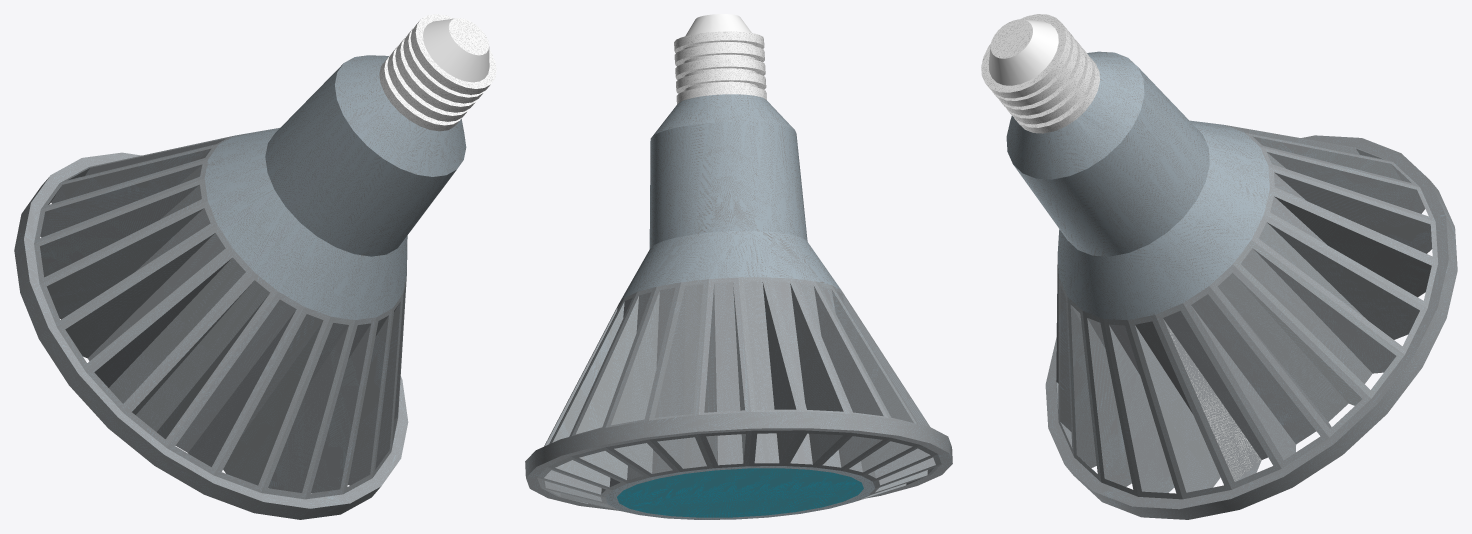
The model's file is Foco.fbx.
The picture shows the model from 3 angles, left to right: view 1: azimuth 30°, elevation 25°; view 2: azimuth 150°, elevation 25°; view 3: azimuth 270°, elevation 25°; orthographic projection. The views are drawn at different scales.
Parts seen in each view (by area): view 1: PAR38_1; view 2: PAR38_1; view 3: PAR38_1.
Boxes of the visible parts, box(x1,y1,x2,y2) form: PAR38_1: box(14, 14, 496, 519); PAR38_1: box(525, 14, 952, 519); PAR38_1: box(981, 14, 1457, 519).
Bounding box in the file's own units: 0.1152 × 0.1443 × 0.124.
